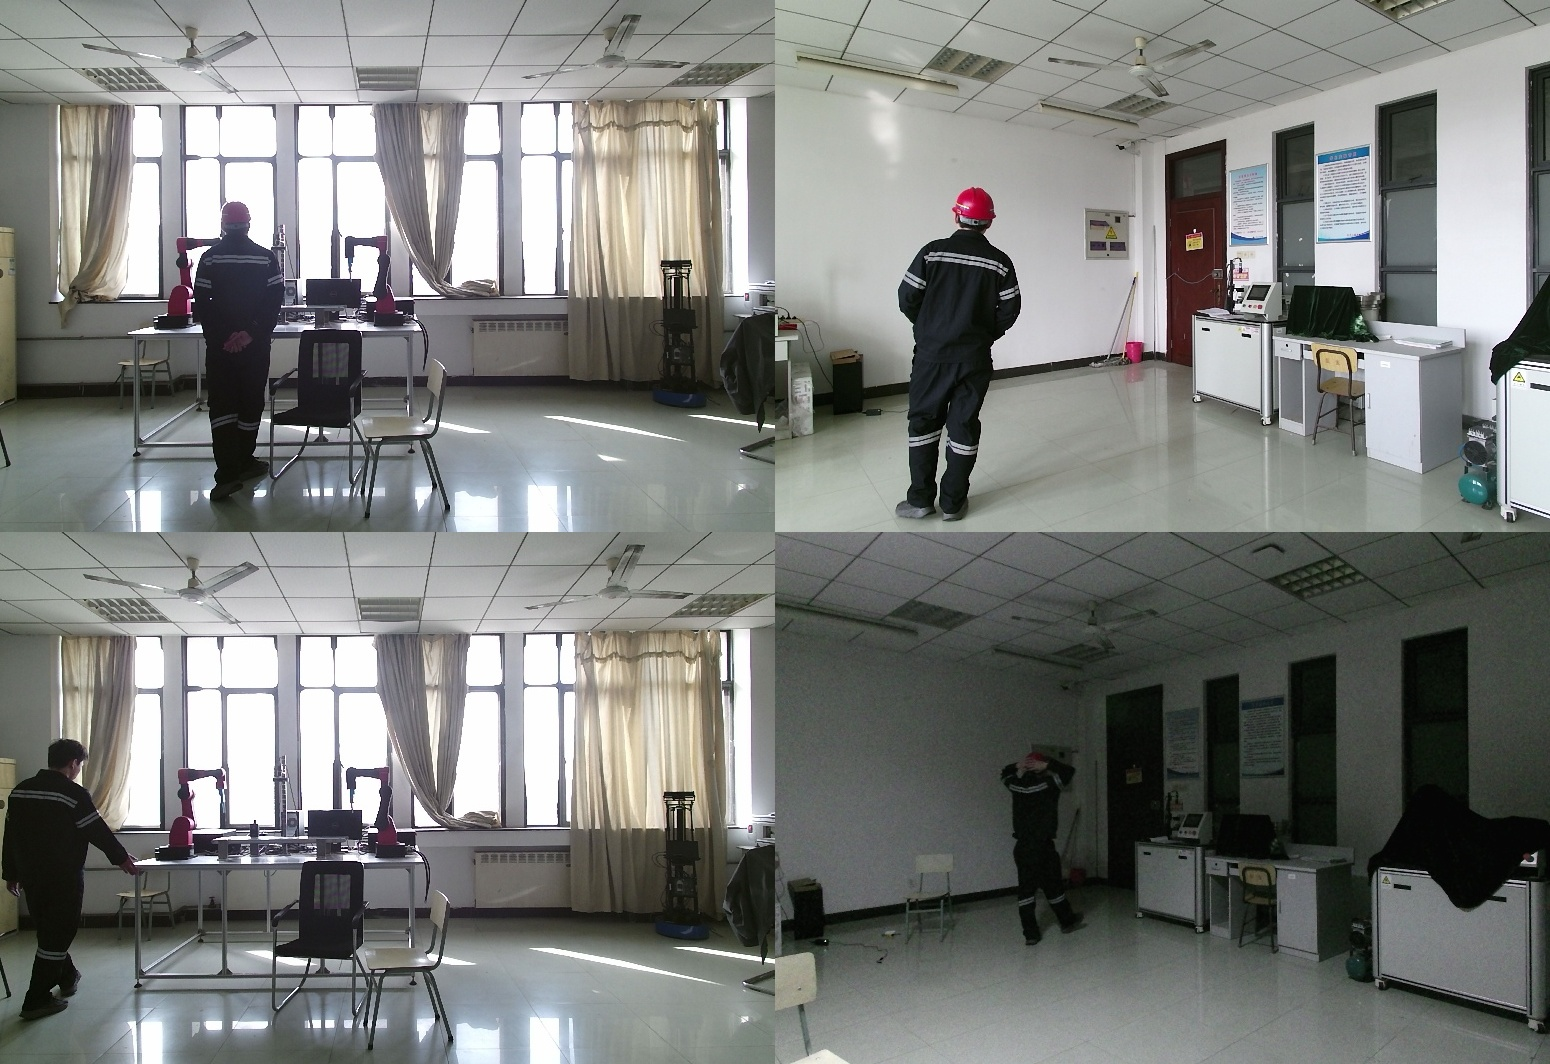person: (893, 188, 1037, 521), (1, 738, 140, 1015), (190, 202, 294, 498), (994, 751, 1078, 956)
